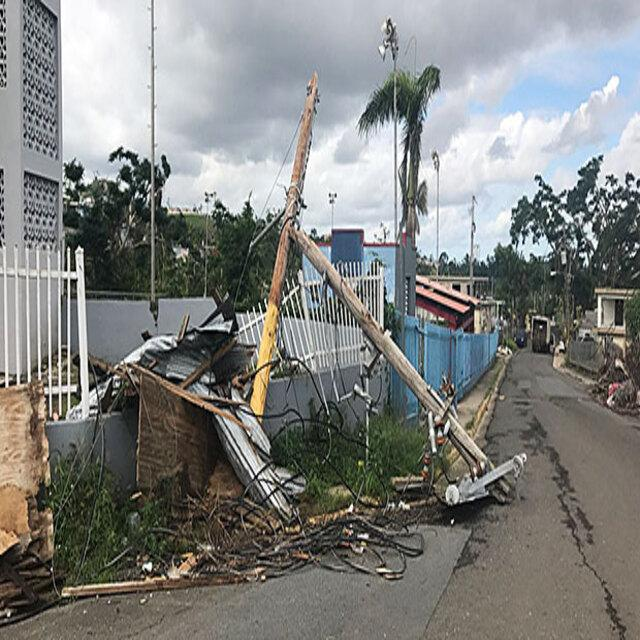Inclined Pole: (243, 76, 533, 513)
